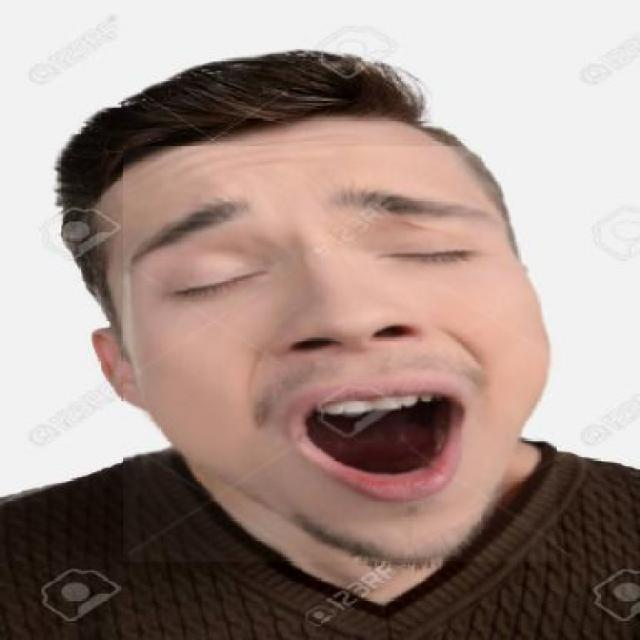Yawn: (105, 118, 555, 581)
